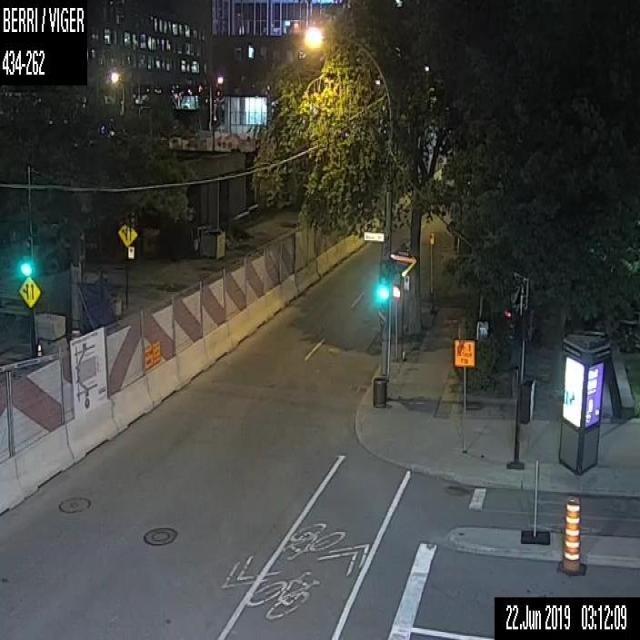construction: (0, 120, 395, 515), (452, 316, 475, 454), (556, 493, 586, 575), (36, 342, 42, 364)
